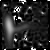node: (3, 14, 16, 50)
